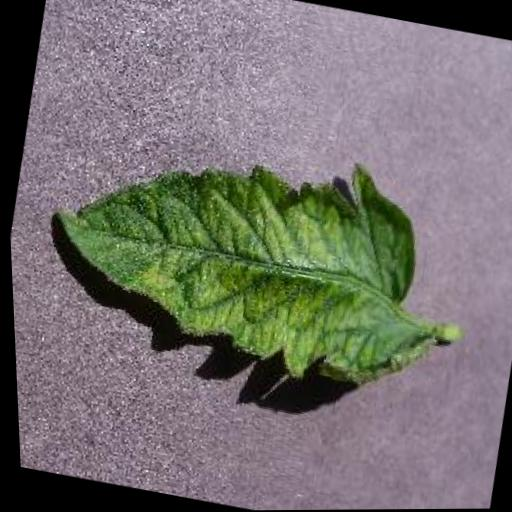Mosaic Virus: (21, 98, 462, 405)
